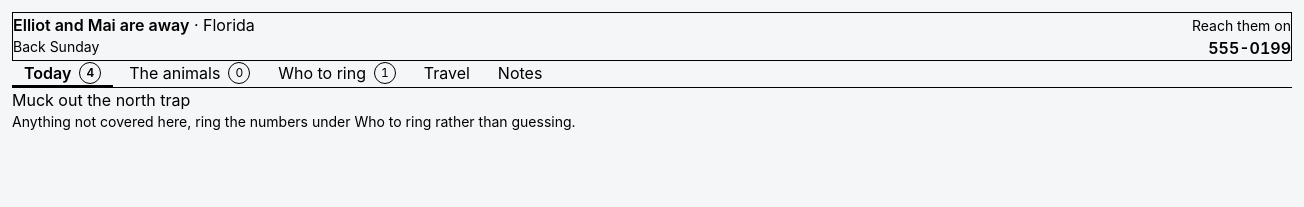
Test case: pens, rations and the routine are one view › puts the standing routine in with the animals rather than under Notes
Click the tab "The animals 0".
click(190, 74)  # box [117, 61, 262, 87]
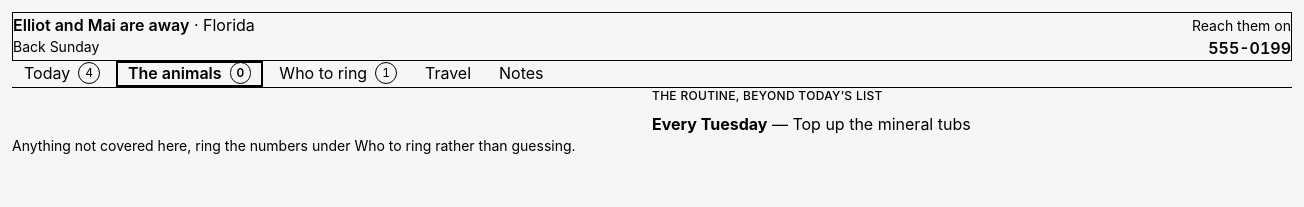
Result: the list item "Every Tuesday — Top up the mineral tubs" is shown at [652, 114, 971, 134]
Click the tab "Notes".
click(521, 74)  # box [487, 61, 556, 87]
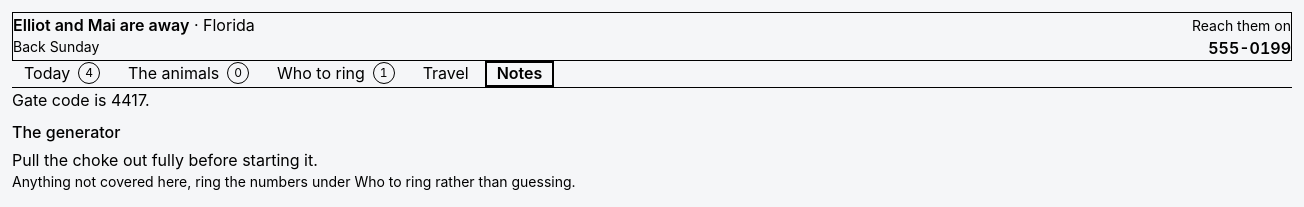
Result: the list item "Top up the mineral tubs" is gone
